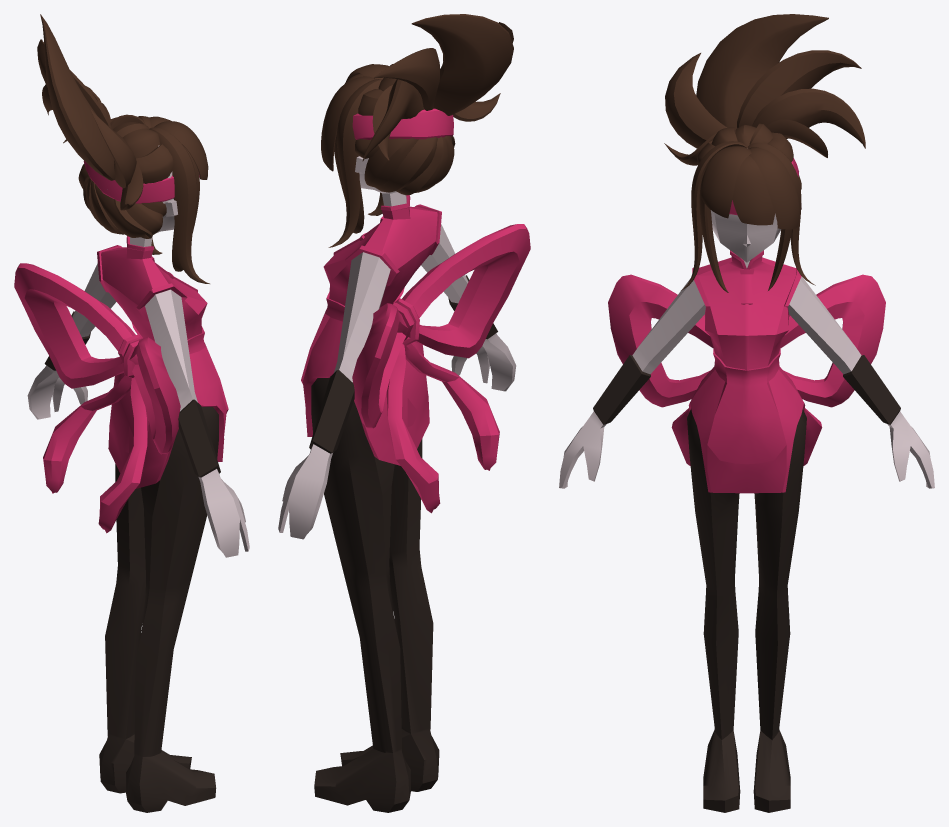
The model's file is Player_Model_NoTextures.fbx.
3 renders of one model, left to right at view 1: azimuth 30°, elevation 25°; view 2: azimuth 150°, elevation 25°; view 3: azimuth 270°, elevation 25°, orthographic. The views are drawn at different scales.
Visible parts, largest first — view 1: m_Hair; view 2: m_Hair; view 3: m_Hair.
Boxes of the visible parts, <box> form: m_Hair: <box>14,14,249,812</box>; m_Hair: <box>278,14,530,812</box>; m_Hair: <box>559,14,934,812</box>.
Bounding box in the file's own units: 102 × 450 × 207.
